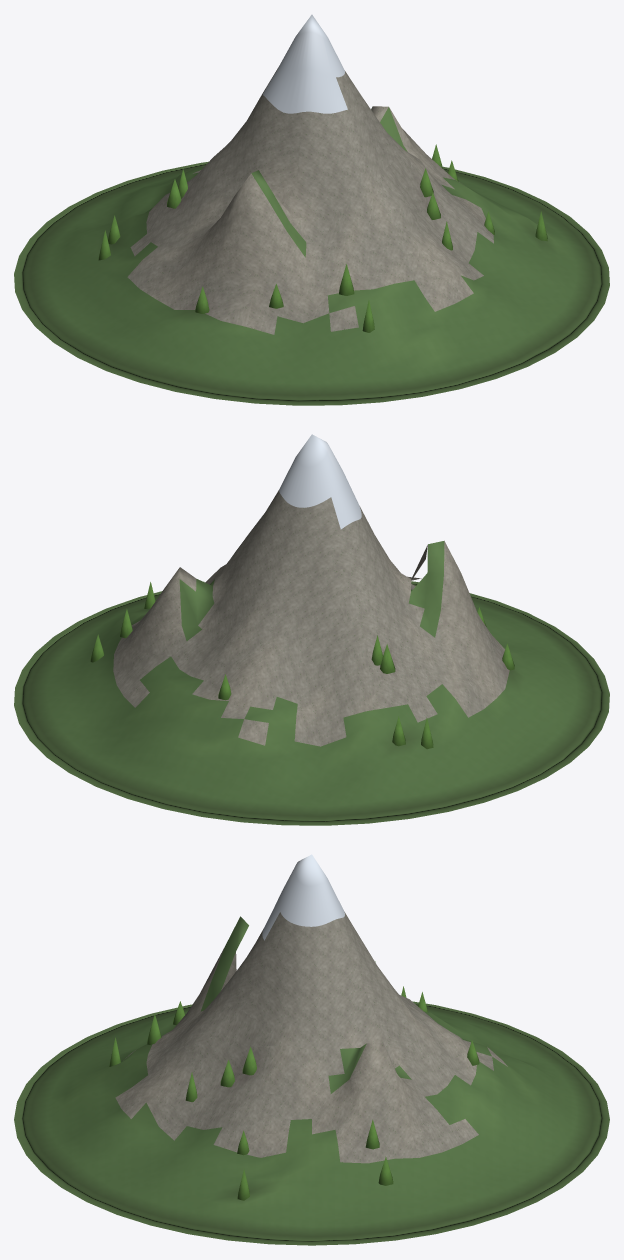
The model's file is mountain.1.glb.
3 views of the same model, one above another, from view 1: azimuth 30°, elevation 25°; view 2: azimuth 150°, elevation 25°; view 3: azimuth 270°, elevation 25° (orthographic).
Visible parts, largest first — view 1: scenery.mountain.1; view 2: scenery.mountain.1; view 3: scenery.mountain.1.
Part boxes in pixels (box(x1,y1,x2,y2)): scenery.mountain.1: box(14, 14, 609, 405); scenery.mountain.1: box(14, 434, 609, 825); scenery.mountain.1: box(14, 854, 609, 1245).
Size of the model in its own units: 68 by 33.4 by 68.
4 materials, 3 textured.
